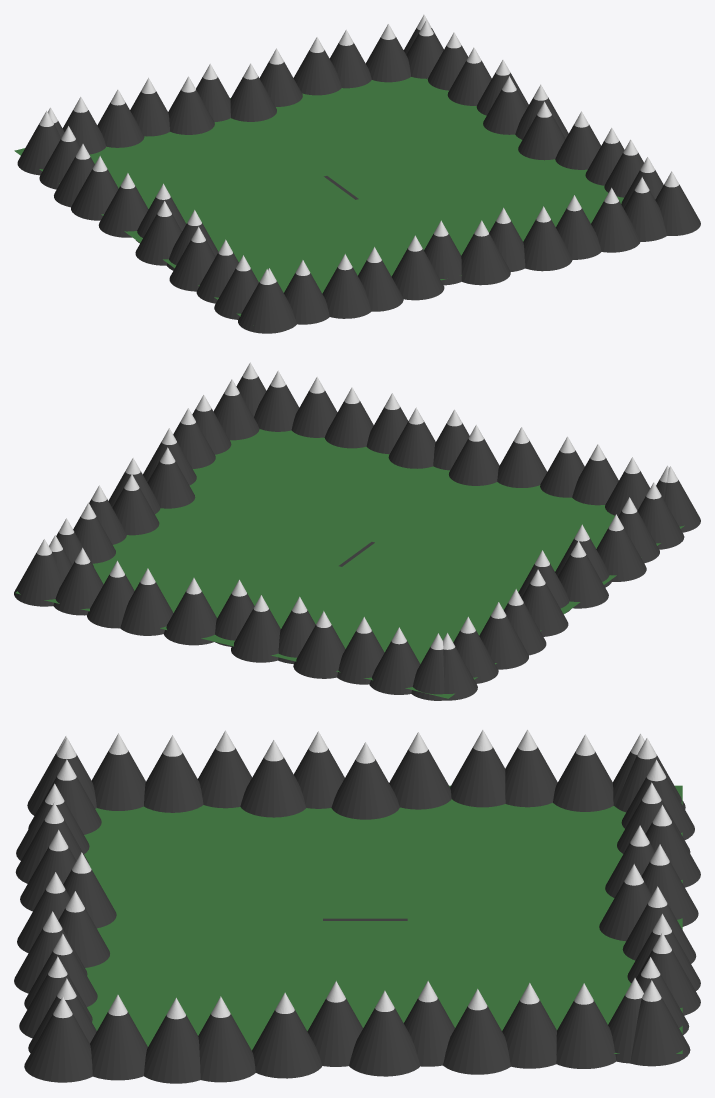
File: World.glb
3 renders of one model, top to bottom at view 1: azimuth 30°, elevation 25°; view 2: azimuth 150°, elevation 25°; view 3: azimuth 270°, elevation 25°, orthographic. The views are drawn at different scales.
Parts seen in each view (by area): view 1: Cone.044, Plane; view 2: Cone.044, Plane; view 3: Cone.044, Plane.
Boxes of the visible parts, box(x1,y1,x2,y2) form: Cone.044: box(17, 14, 700, 333); Plane: box(14, 77, 623, 325); Cone.044: box(14, 362, 700, 700); Plane: box(15, 429, 698, 698); Cone.044: box(14, 729, 700, 1083); Plane: box(84, 785, 682, 1053).
Size of the model in its own units: 786 by 85.32 by 759.
